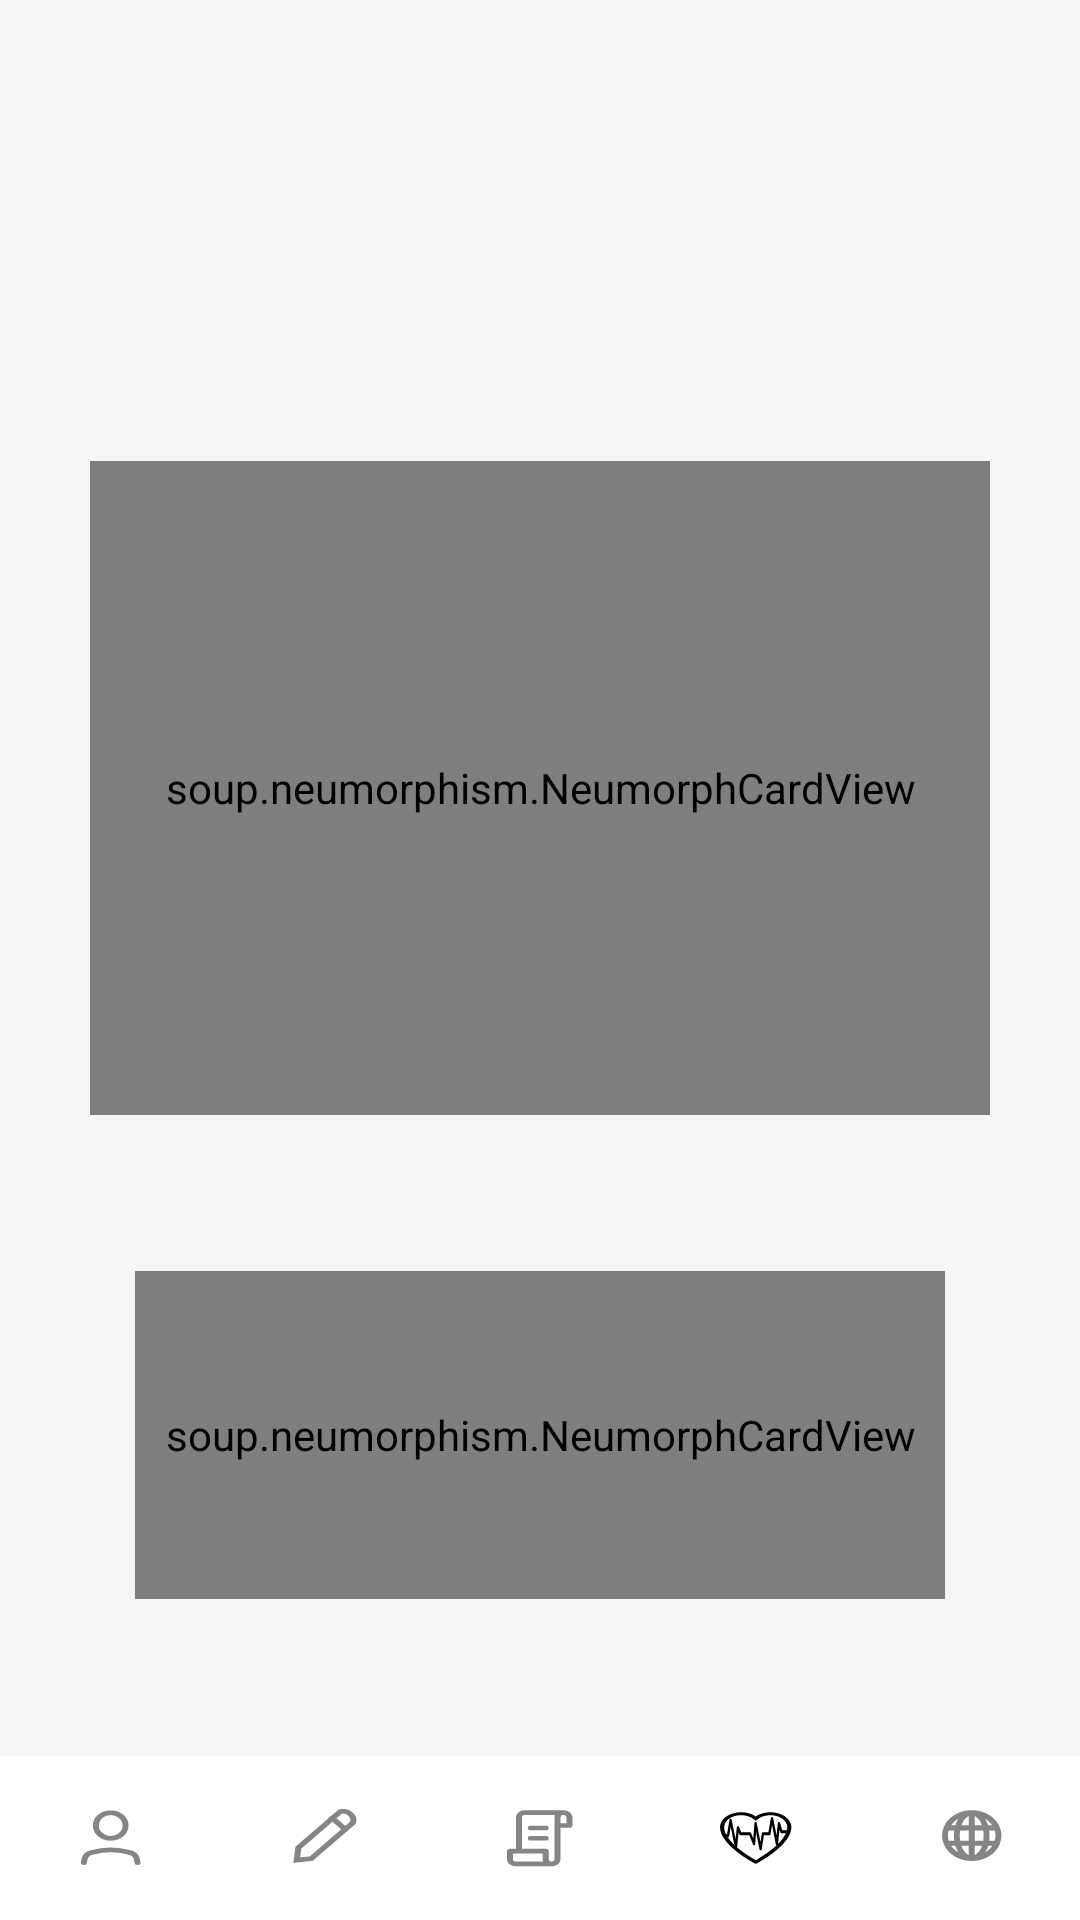

Named icons in this screenshot (1080w x 1920h) and their centers, (x,y):
edit: (325,1836)
heart: (756,1838)
profile: (111,1837)
scroll: (540,1838)
